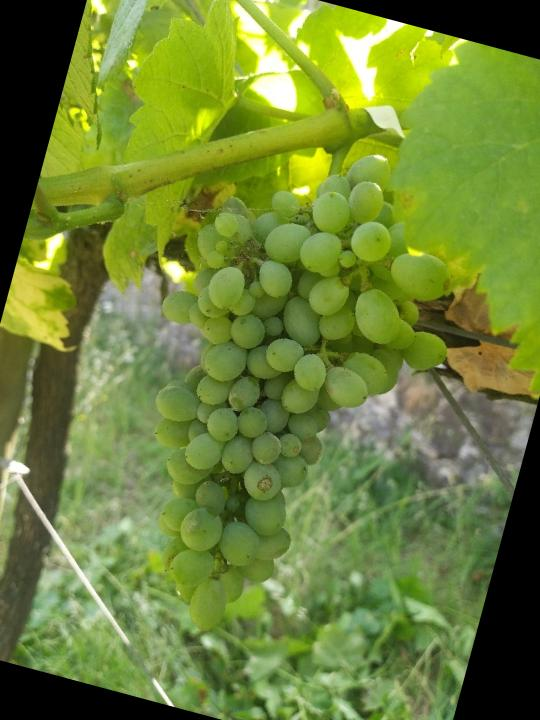grape: (76, 105, 496, 681)
